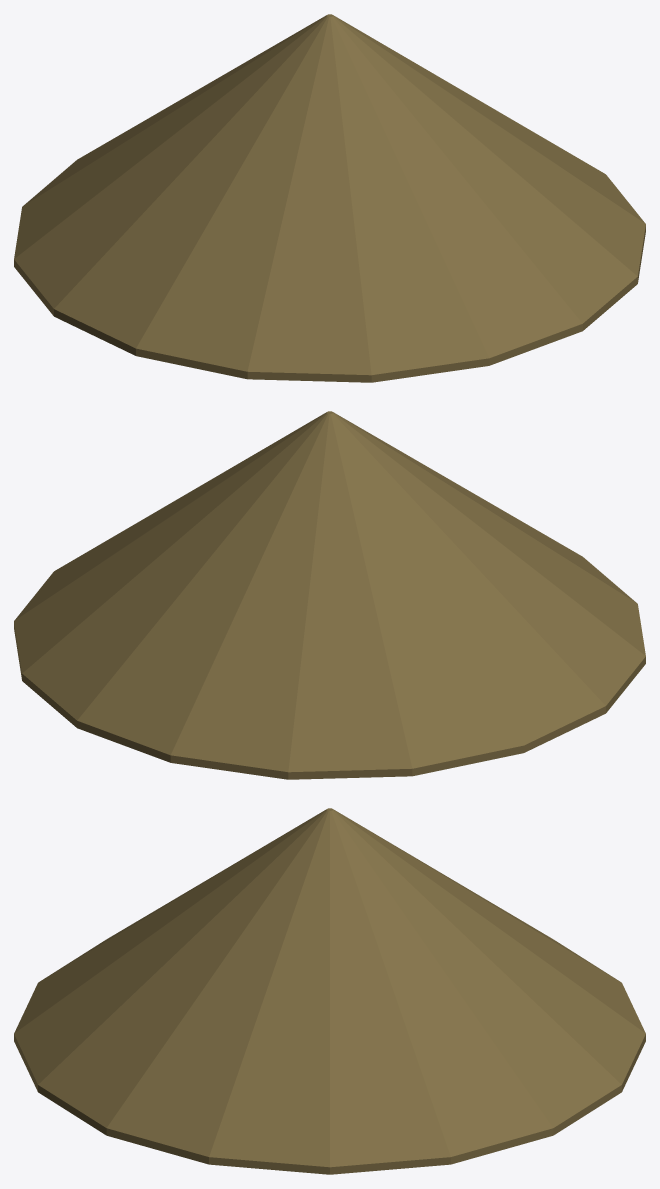
The model's file is ConeHat_v004(UV_Unwrapped).fbx.
3 renders of one model, top to bottom at view 1: azimuth 30°, elevation 25°; view 2: azimuth 150°, elevation 25°; view 3: azimuth 270°, elevation 25°, orthographic.
Visible parts, largest first — view 1: coneHat; view 2: coneHat; view 3: coneHat.
Part boxes in pixels (x1,y1,x2,y2): coneHat: (14,14,645,382); coneHat: (14,411,645,779); coneHat: (14,808,645,1174).
Size of the model in its own units: 287 by 116 by 287.
